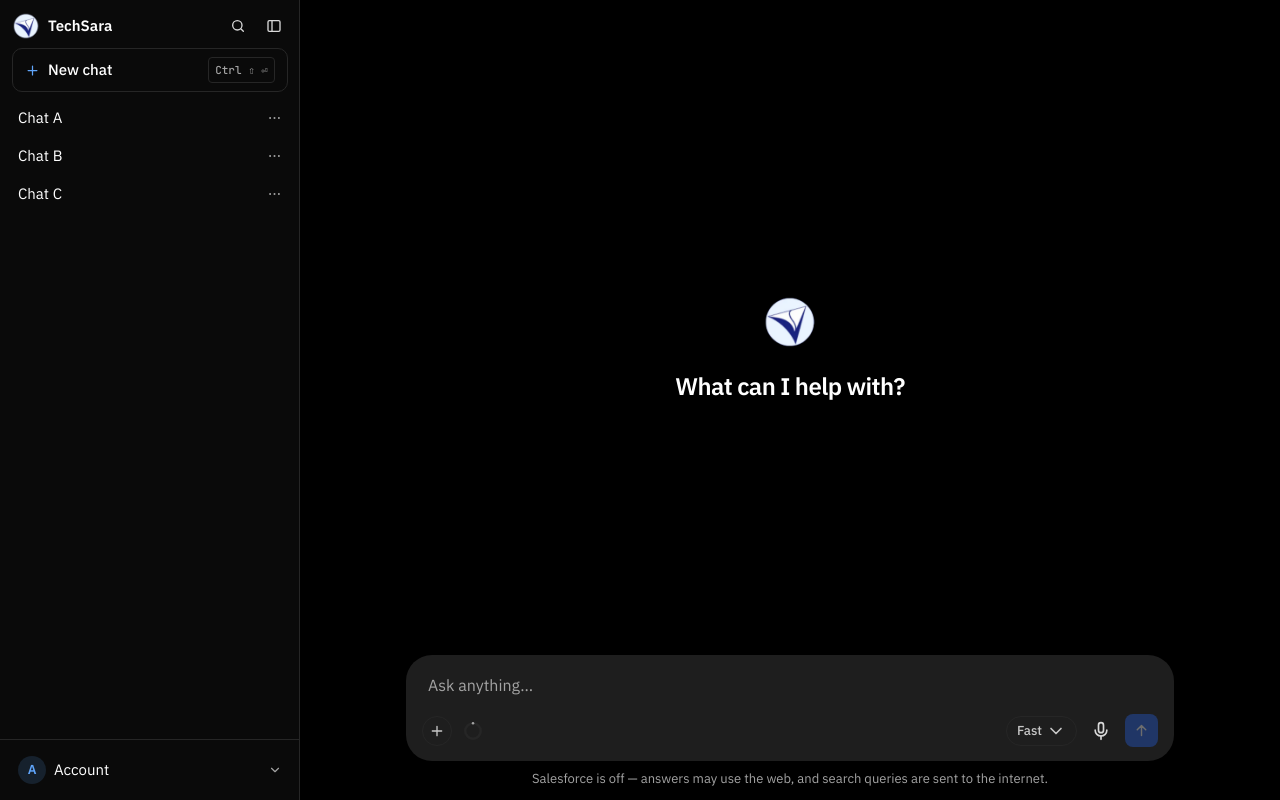
Test: M-10 · CASE 3 — history arrives › renders B once its load resolves, and stops loading
Click the button "Chat B" at (40, 156), box [8,138,292,174]
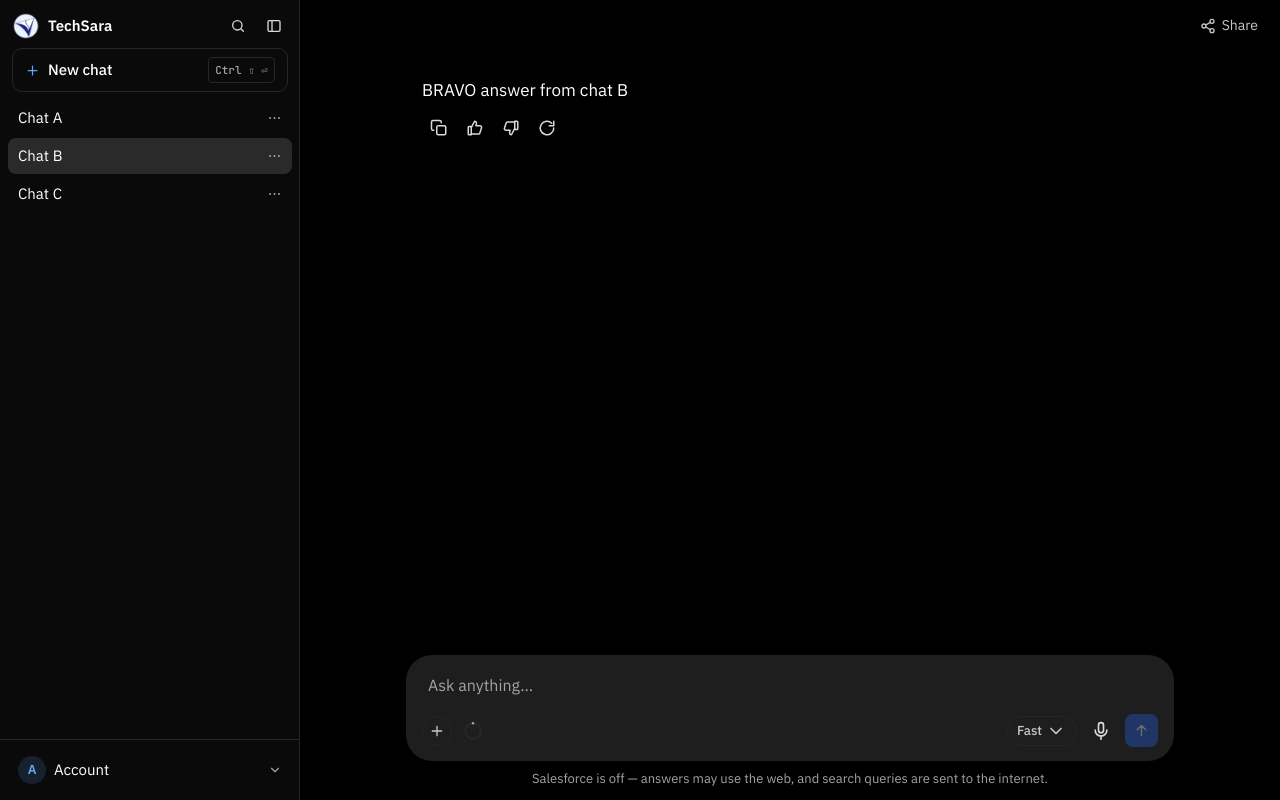
Expected: the element with test id "conversation-loading" is shown, [422,79,628,145]
Expected: the heading "What can I help with?" is gone
